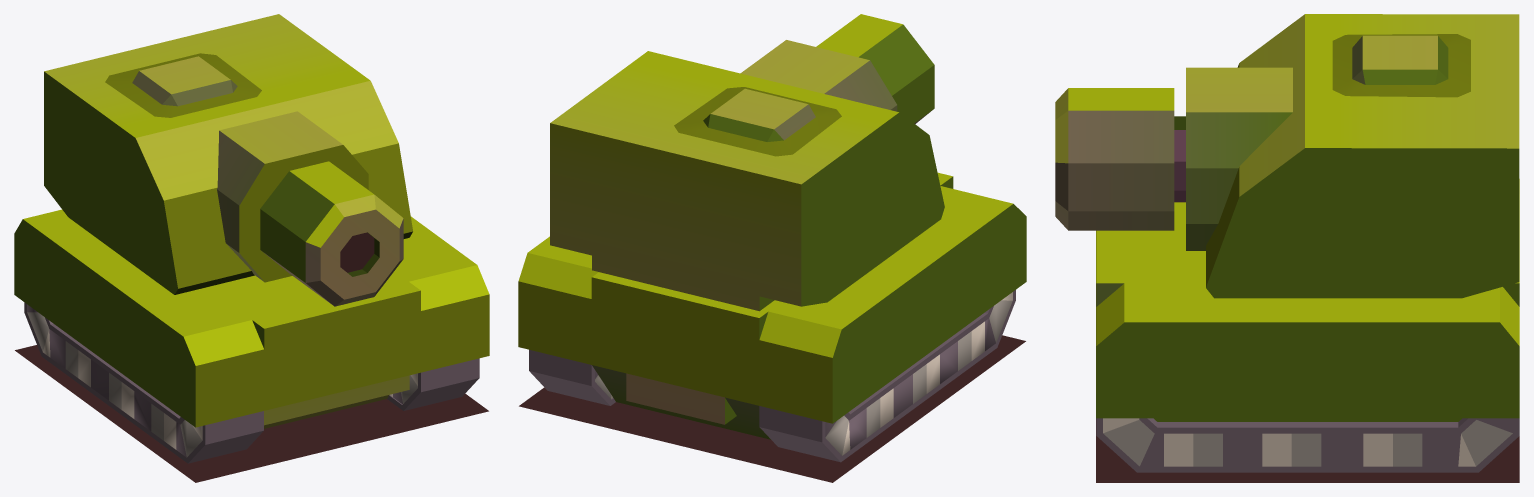
The model's file is TankMesh.AcidRain.glb.
3 views of the same model, side by side, from view 1: azimuth 30°, elevation 25°; view 2: azimuth 150°, elevation 25°; view 3: azimuth 270°, elevation 25° (orthographic). The views are drawn at different scales.
Parts seen in each view (by area): view 1: TankMesh.AcidRain; view 2: TankMesh.AcidRain; view 3: TankMesh.AcidRain.
Boxes of the visible parts, x1,y1,x2,y2 form: TankMesh.AcidRain: [14, 14, 489, 482]; TankMesh.AcidRain: [518, 14, 1026, 482]; TankMesh.AcidRain: [1055, 14, 1519, 482].
Bounding box in the file's own units: 1.5 × 1.38 × 1.76.
Materials: 1 (1 with a texture image).
